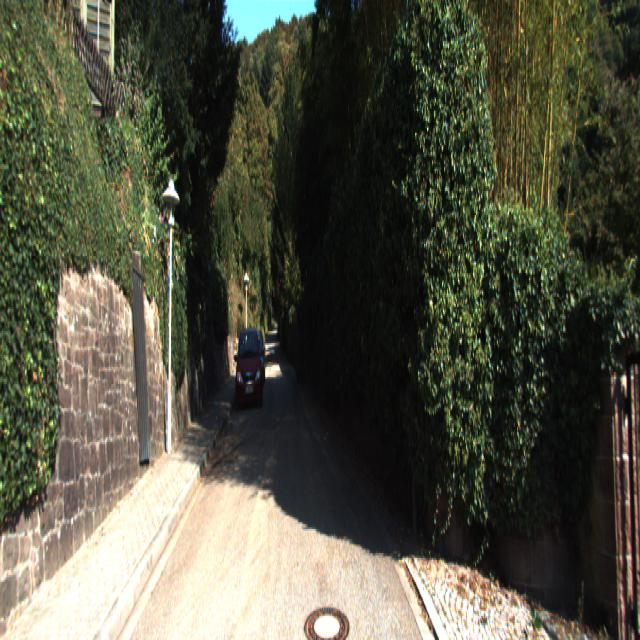Car: (234, 323, 262, 413)
